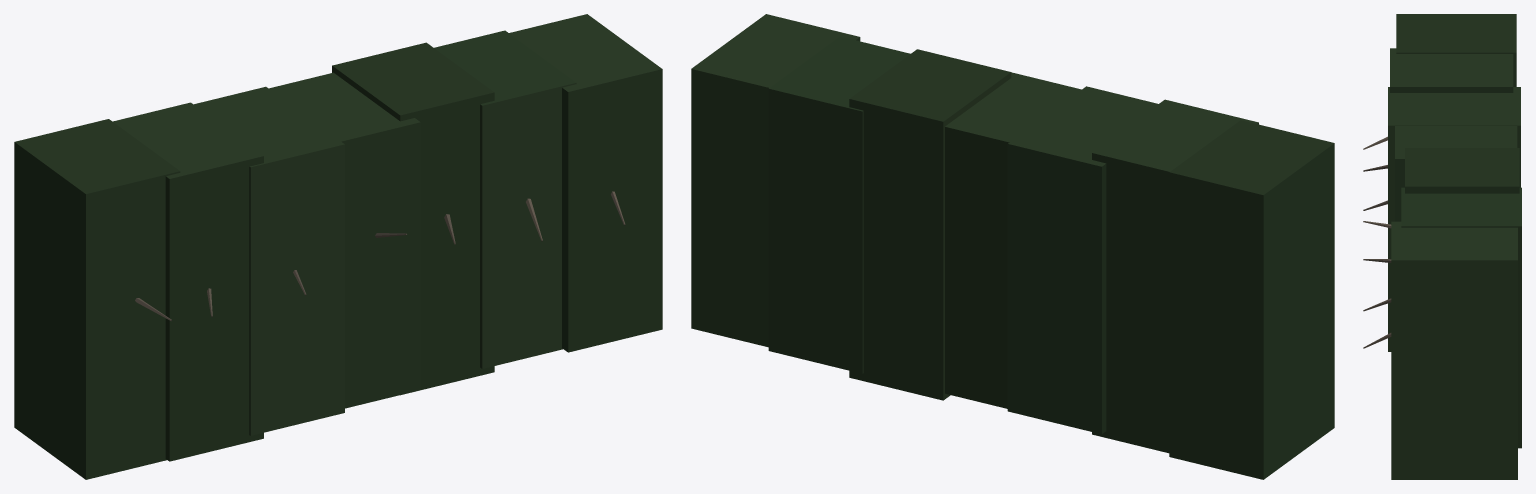
File: walk_veiled_wall.glb
3 views of the same model, side by side, from view 1: azimuth 30°, elevation 25°; view 2: azimuth 150°, elevation 25°; view 3: azimuth 270°, elevation 25° (orthographic). The views are drawn at different scales.
Parts seen in each view (by area): view 1: walk_veiled_wall; view 2: walk_veiled_wall; view 3: walk_veiled_wall.
Boxes of the visible parts, bbox=[...] form: walk_veiled_wall: bbox=[14, 14, 662, 479]; walk_veiled_wall: bbox=[691, 14, 1334, 479]; walk_veiled_wall: bbox=[1363, 14, 1521, 479].
Size of what is drawn, in the model's own units: 7.9 by 3.76 by 2.25.
Materials: 1 (1 with a texture image).
